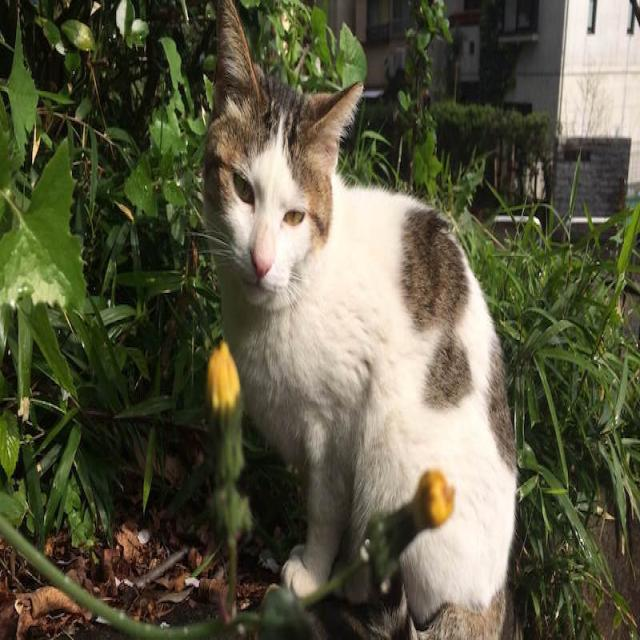cat: (205, 4, 516, 636)
